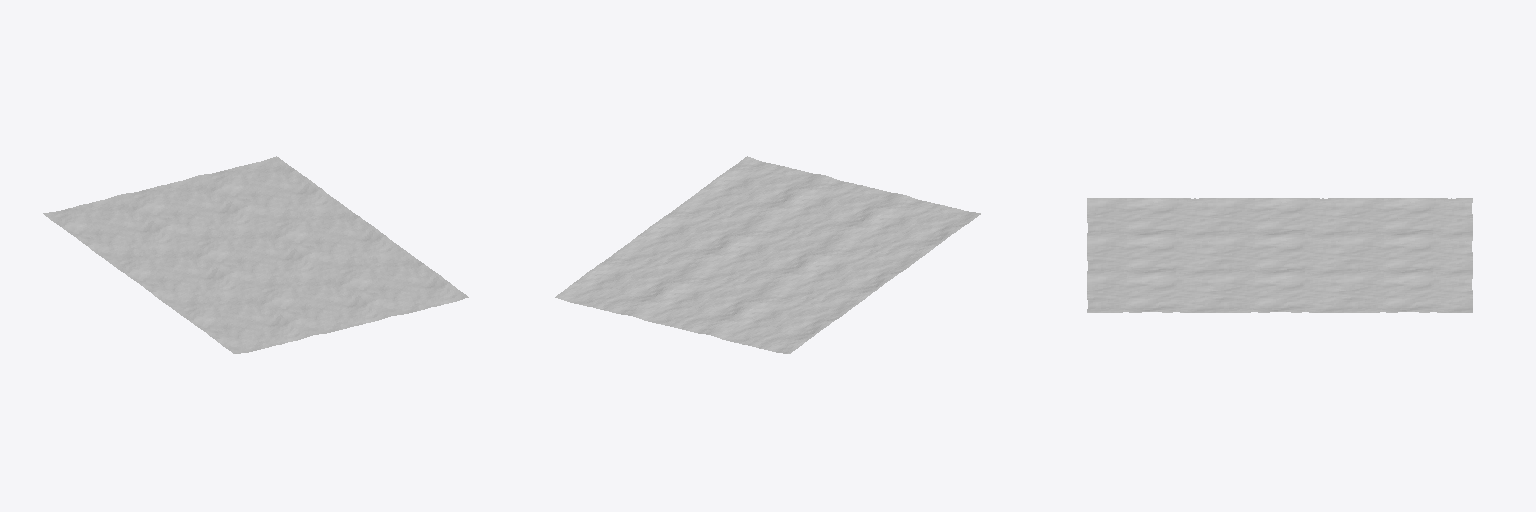
File: ground.obj
3 renders of one model, left to right at view 1: azimuth 30°, elevation 25°; view 2: azimuth 150°, elevation 25°; view 3: azimuth 270°, elevation 25°, orthographic.
Parts seen in each view (by area): view 1: Plane.001; view 2: Plane.001; view 3: Plane.001.
Boxes of the visible parts, x1=… form: Plane.001: x1=43, y1=156, x2=468, y2=353; Plane.001: x1=555, y1=156, x2=980, y2=353; Plane.001: x1=1087, y1=198, x2=1472, y2=312.
Size of the model in its own units: 290 by 2.65 by 413.